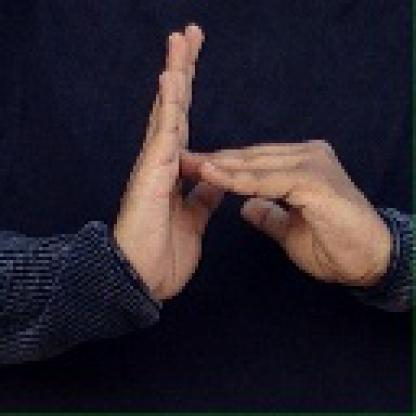Z: (106, 11, 380, 292)
